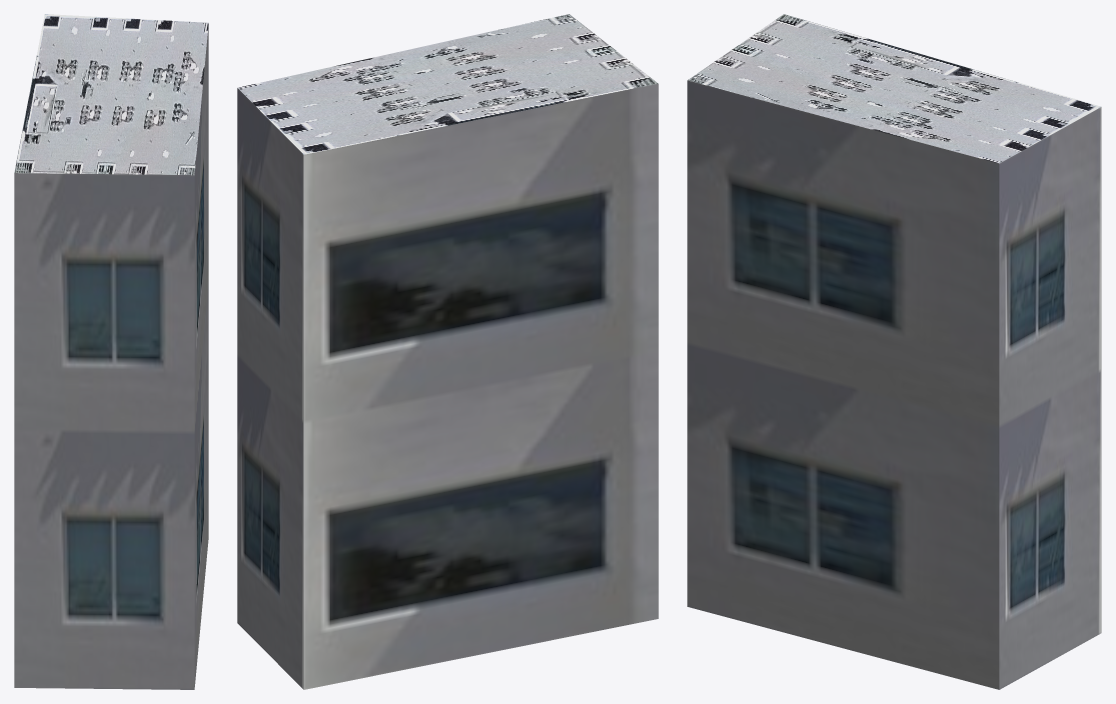
The model's file is ResTex__2267.fbx.
3 views of the same model, side by side, from view 1: azimuth 30°, elevation 25°; view 2: azimuth 150°, elevation 25°; view 3: azimuth 270°, elevation 25° (orthographic). The views are drawn at different scales.
Visible parts, largest first — view 1: CityEngineMaterial_10_m, CityEngineMaterial_2_m; view 2: CityEngineMaterial_10_m, CityEngineMaterial_2_m; view 3: CityEngineMaterial_10_m, CityEngineMaterial_2_m.
Boxes of the visible parts, <box> form: CityEngineMaterial_10_m: <box>14,25,208,689</box>; CityEngineMaterial_2_m: <box>14,14,208,175</box>; CityEngineMaterial_10_m: <box>237,83,658,689</box>; CityEngineMaterial_2_m: <box>237,14,657,154</box>; CityEngineMaterial_10_m: <box>687,80,1101,689</box>; CityEngineMaterial_2_m: <box>687,14,1101,163</box>.
Size of the model in its own units: 3.66 by 6 by 4.28.
Materials: 2 (2 with a texture image).
